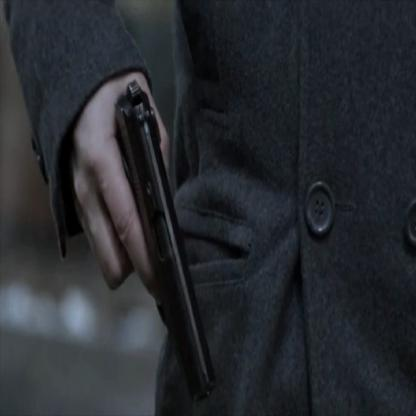gun: (97, 55, 218, 414)
